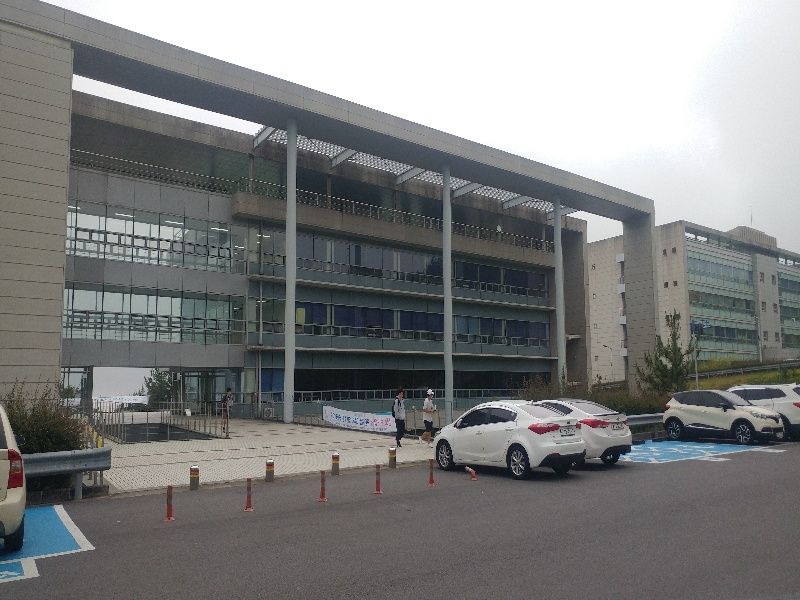College of Marine Science: (662, 224, 797, 357), (687, 234, 793, 350)
Engineering College Building 4: (1, 14, 583, 389), (5, 165, 610, 393)
